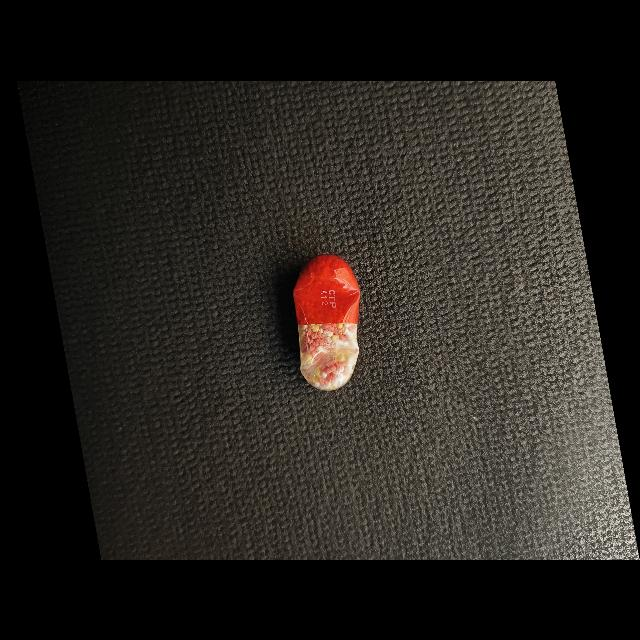Defective Capsule: (293, 254, 360, 390)
